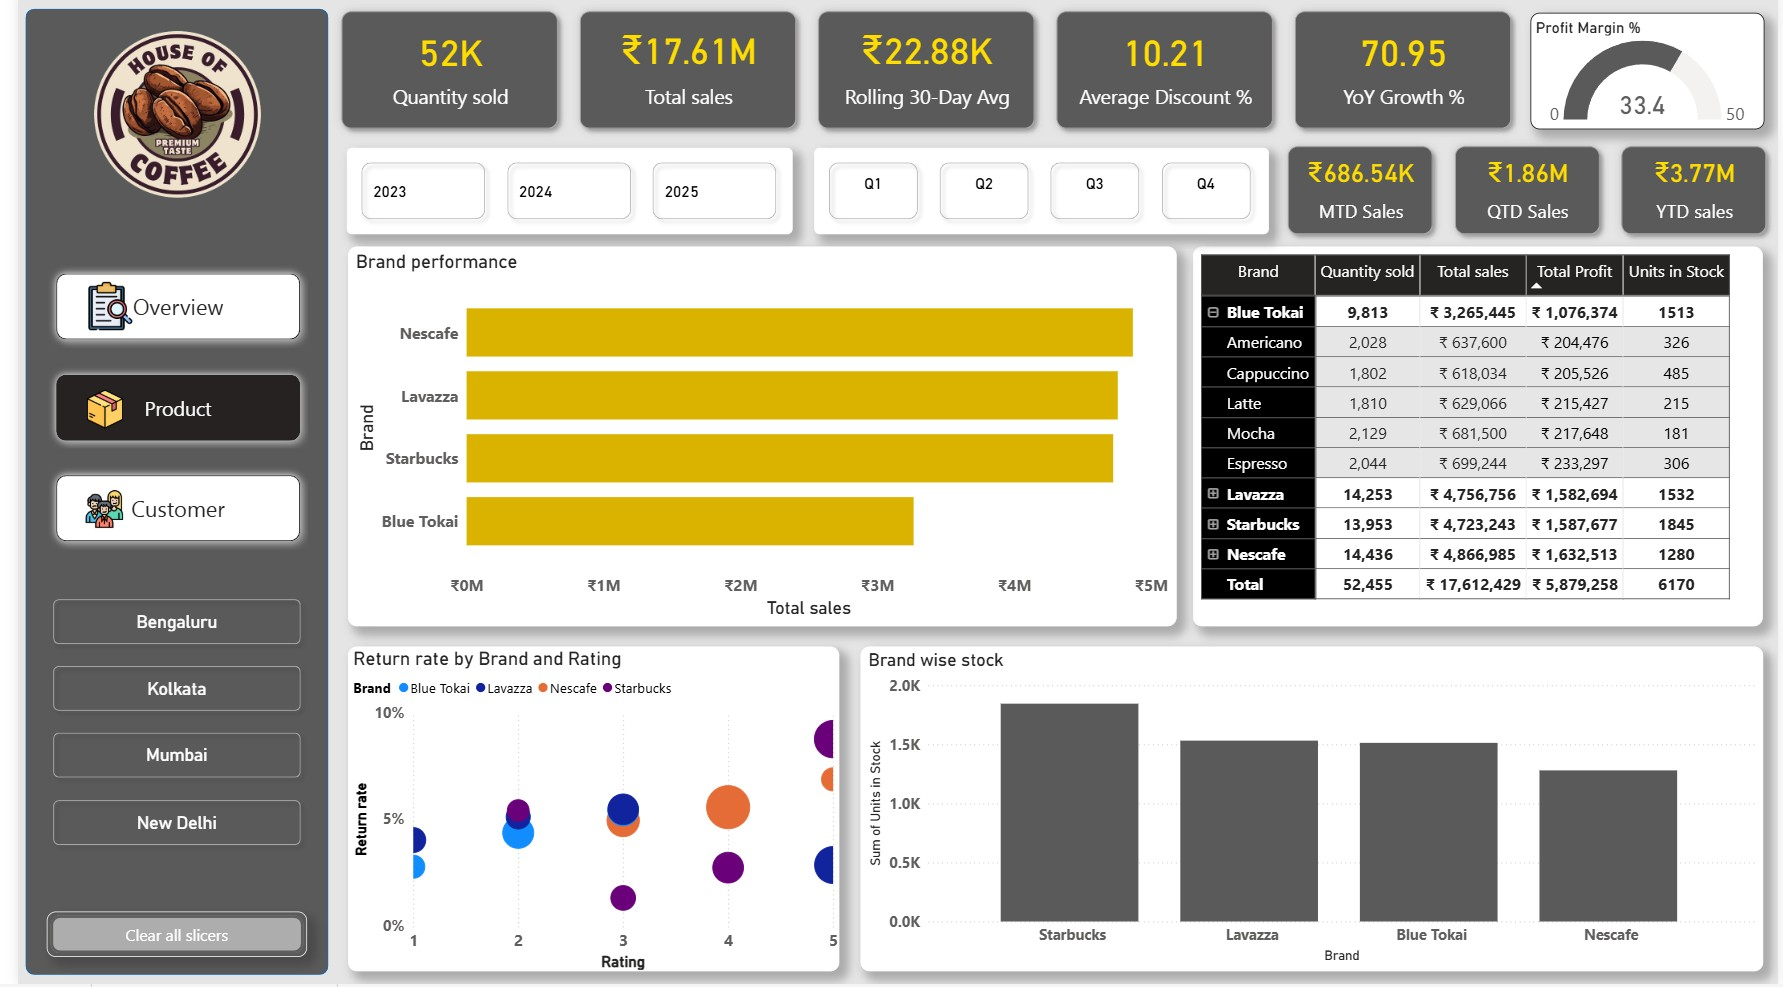

Layout of this report page (visuals, bound fields, positions):
{"tool":"powerbi","page":{"name":"Page 1","canvas":[1920,1080],"ordinal":0},"visuals":[{"type":"shape","box":[8.4,0,330.5,1080],"z":0},{"type":"bookmarkNavigator","box":[33,295.3,284.3,311.8],"z":0,"group":"g1"},{"type":"advancedSlicerVisual","fields":{"Values":["Measure selector.Measure selector"]},"box":[357.7,278.8,311.6,389],"z":1000,"group":"g2"},{"type":"lineChart","fields":{"Y":["_Measures.Total sales"],"Category":["Date_Dimension.Year","Date_Dimension.Quarterrrr"]},"box":[691.5,282.5,1214.3,388.9],"z":1000},{"type":"image","title":"O_Image","box":[69.7,305.8,62.4,67.9],"z":1000,"group":"g1"},{"type":"image","title":"P_Image","box":[64.2,426,62.4,52.3],"z":2000,"group":"g1"},{"type":"actionButton","box":[31.2,1001.5,284.3,49.5],"z":2000},{"type":"cardVisual","fields":{"Data":["_Measures.Total quantity sold","_Measures.Total sales","_Measures.30 Day moving avg sales","_Measures.Average Discount","_Measures.YoY Growth %"]},"box":[341.5,7.3,1301.7,152.8],"z":3000},{"type":"image","title":"C_Image","box":[58.7,535.7,71.5,52.3],"z":3000,"group":"g1"},{"type":"gauge","fields":{"Y":["_Measures.Profit Margin %"]},"box":[1650.6,20,255.2,127.3],"z":4000},{"type":"donutChart","title":"Sales by Order channel","fields":{"Category":["Sales.Order channel"],"Y":["_Measures.Total sales"]},"box":[1263.8,693.3,642,357.7],"z":5000},{"type":"waterfallChart","title":"Sales Breakdown: Gross to Net","fields":{"Category":["Sales Steps.Step"],"Y":["_Measures.Waterfall Value"]},"box":[357.6,694.4,884.7,357.6],"z":6000},{"type":"advancedSlicerVisual","fields":{"Values":["Date_Dimension.Year"]},"box":[358,167.3,486.5,94.6],"z":7000},{"type":"advancedSlicerVisual","fields":{"Values":["Date_Dimension.Quarterrrr"]},"box":[868.4,167.3,495.7,94.6],"z":9000},{"type":"cardVisual","fields":{"Data":["_Measures.MTD Sales","_Measures.QTD Sales","_Measures.Year to date sales"]},"box":[1373.3,154.6,547.1,120],"z":13000},{"type":"advancedSlicerVisual","fields":{"Values":["Region_Details.City"]},"box":[23.8,645.7,300.8,299],"z":18000},{"type":"group","id":"g1","title":"Bookmark navigator","box":[33,295.3,284.3,311.8],"z":19000},{"type":"group","id":"g2","title":"Measure Selector","box":[357.7,278.8,311.6,389],"z":20000},{"type":"image","title":"MS Sales","box":[381.5,295.3,42.2,55],"z":21000},{"type":"image","title":"MS Avg","box":[379.7,377.9,42.2,42.2],"z":22000},{"type":"image","title":"MS Qty sold","box":[383.4,451.2,36.7,45.9],"z":23000},{"type":"image","title":"MS PF","box":[383.4,519.1,40.4,58.7],"z":24000},{"type":"image","title":"MS Growth","box":[383.4,599.8,36.7,45.9],"z":25000},{"type":"image","title":"Main logo","box":[60.7,10.5,228,240.5],"z":26000}]}

Visuals, with their boxes in screenshot pixels (x1, y1, x2, y2), scaled from the page's 1920x1080 canvas onto the 1783x987 screenshot:
shape: 8 0 315 986
bookmarkNavigator: 31 270 295 555
advancedSlicerVisual - Measure selector.Measure selector: 332 255 622 610
lineChart - _Measures.Total sales x Date_Dimension.Year: 642 258 1770 614
"O_Image" image: 65 279 123 342
"P_Image" image: 60 389 118 437
actionButton: 29 915 293 960
cardVisual - _Measures.Total quantity sold x _Measures.Total sales: 317 7 1526 146
"C_Image" image: 55 490 121 537
gauge - _Measures.Profit Margin %: 1533 18 1770 135
"Sales by Order channel" donutChart: 1174 634 1770 960
"Sales Breakdown: Gross to Net" waterfallChart: 332 635 1154 961
advancedSlicerVisual - Date_Dimension.Year: 332 153 784 239
advancedSlicerVisual - Date_Dimension.Quarterrrr: 806 153 1267 239
cardVisual - _Measures.MTD Sales x _Measures.QTD Sales: 1275 141 1782 251
advancedSlicerVisual - Region_Details.City: 22 590 301 863
"Bookmark navigator" group: 31 270 295 555
"Measure Selector" group: 332 255 622 610
"MS Sales" image: 354 270 393 320
"MS Avg" image: 353 345 392 384
"MS Qty sold" image: 356 412 390 454
"MS PF" image: 356 474 394 528
"MS Growth" image: 356 548 390 590
"Main logo" image: 56 10 268 229
